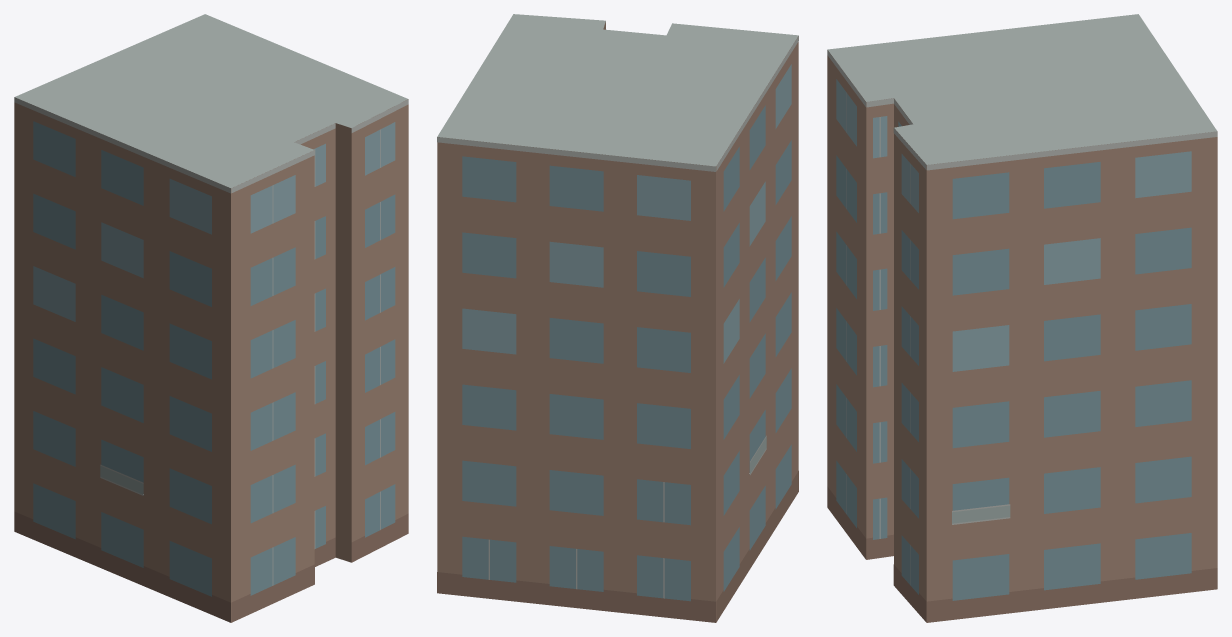
The model's file is survey-upis-32834006.glb.
3 views of the same model, side by side, from view 1: azimuth 30°, elevation 25°; view 2: azimuth 150°, elevation 25°; view 3: azimuth 270°, elevation 25° (orthographic). The views are drawn at different scales.
Parts seen in each view (by area): view 1: survey-upis-32834006.tmp; view 2: survey-upis-32834006.tmp; view 3: survey-upis-32834006.tmp.
Part boxes in pixels (x1,y1,x2,y2): survey-upis-32834006.tmp: (14, 14, 408, 622); survey-upis-32834006.tmp: (437, 14, 798, 622); survey-upis-32834006.tmp: (827, 14, 1217, 622).
Bounding box in the file's own units: 14.26 × 20.15 × 15.57.
